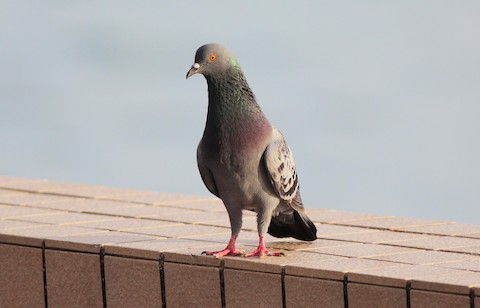pigeon: (177, 36, 321, 265)
